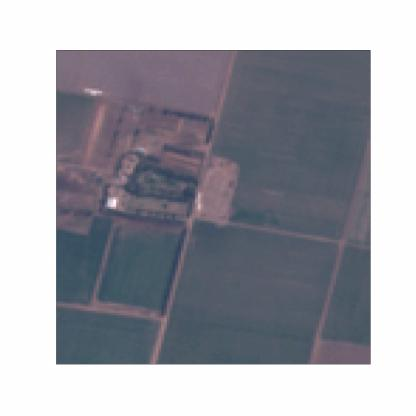silobolsa: (191, 192, 206, 213), (82, 84, 104, 98)
